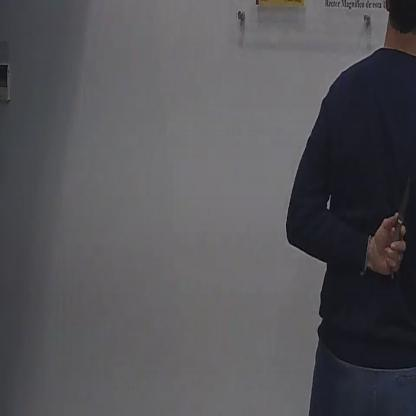knife: (384, 166, 414, 284)
